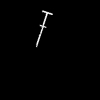double_crochet: (36, 11, 51, 46)
